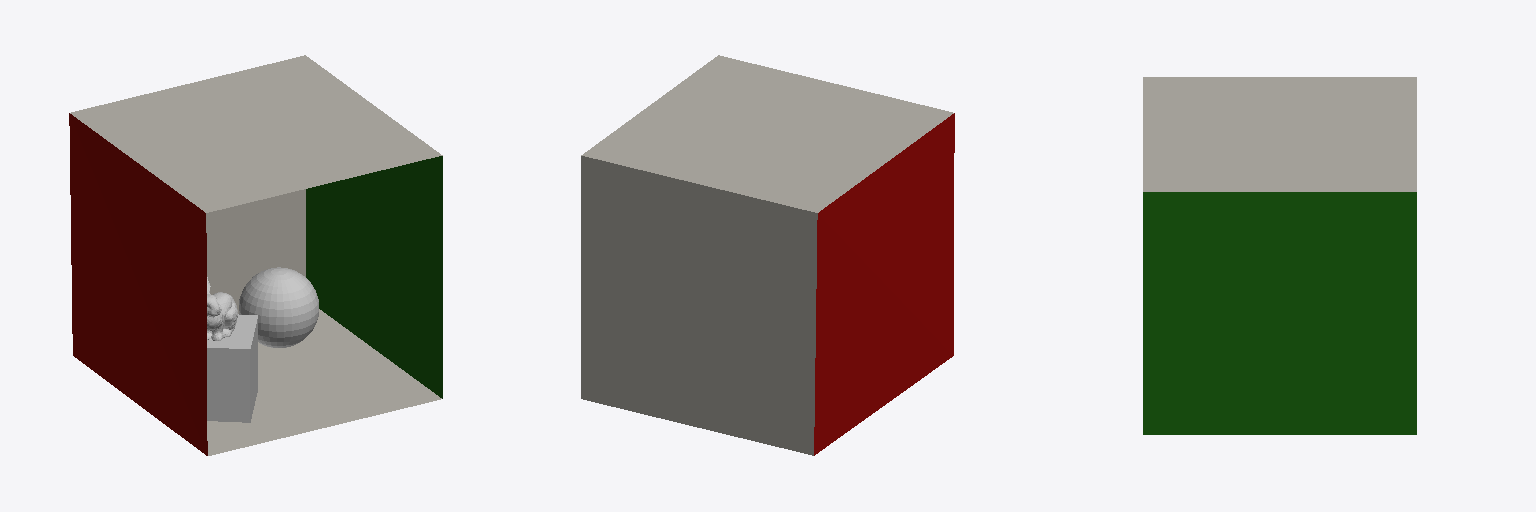
Rendered from CornellBoxMetal.obj.
3 views of the same model, side by side, from view 1: azimuth 30°, elevation 25°; view 2: azimuth 150°, elevation 25°; view 3: azimuth 270°, elevation 25° (orthographic).
Visible parts, largest first — view 1: CornellBox, Sphere, Cube, bunny; view 2: CornellBox; view 3: CornellBox.
Boxes of the visible parts, x1=… form: CornellBox: x1=69, y1=55, x2=442, y2=455; Sphere: x1=239, y1=267, x2=318, y2=347; Cube: x1=207, y1=314, x2=257, y2=422; bunny: x1=207, y1=277, x2=237, y2=340; CornellBox: x1=581, y1=55, x2=954, y2=455; CornellBox: x1=1143, y1=77, x2=1416, y2=434.
Bounding box in the file's own units: 2.02 × 1.99 × 2.03.